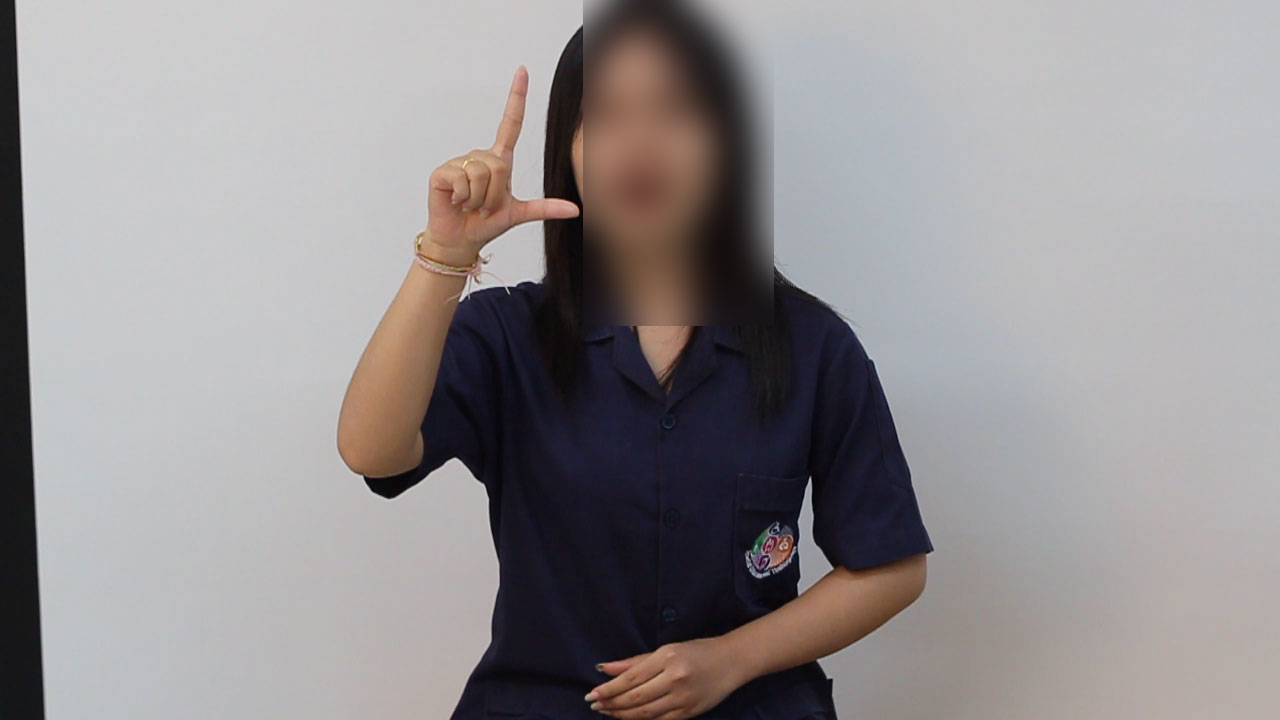lor: (366, 56, 597, 262)
